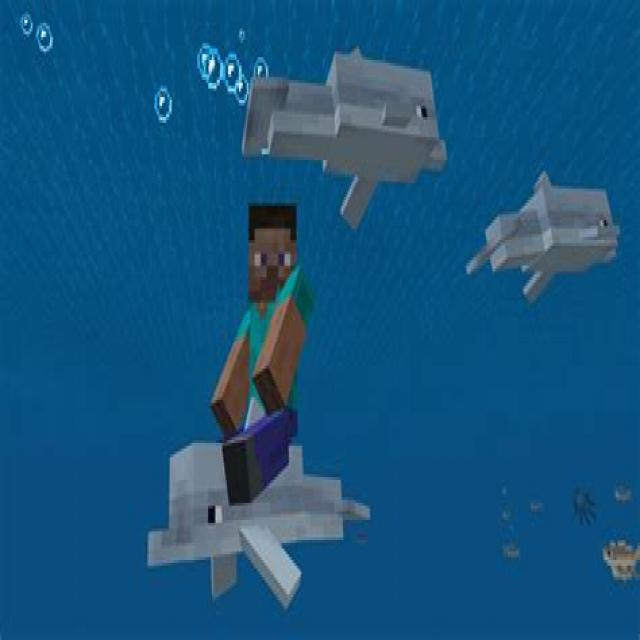Dolphin: (142, 394, 378, 612), (238, 40, 453, 229), (459, 173, 621, 301)
